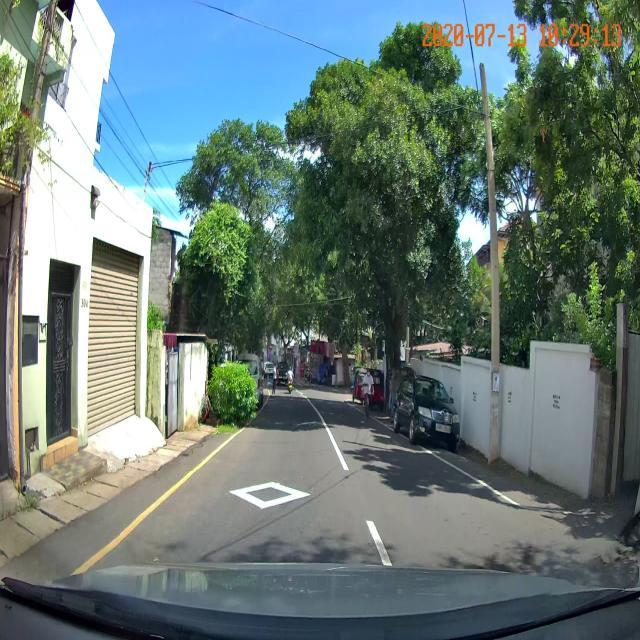diamond: (120, 472, 393, 558)
